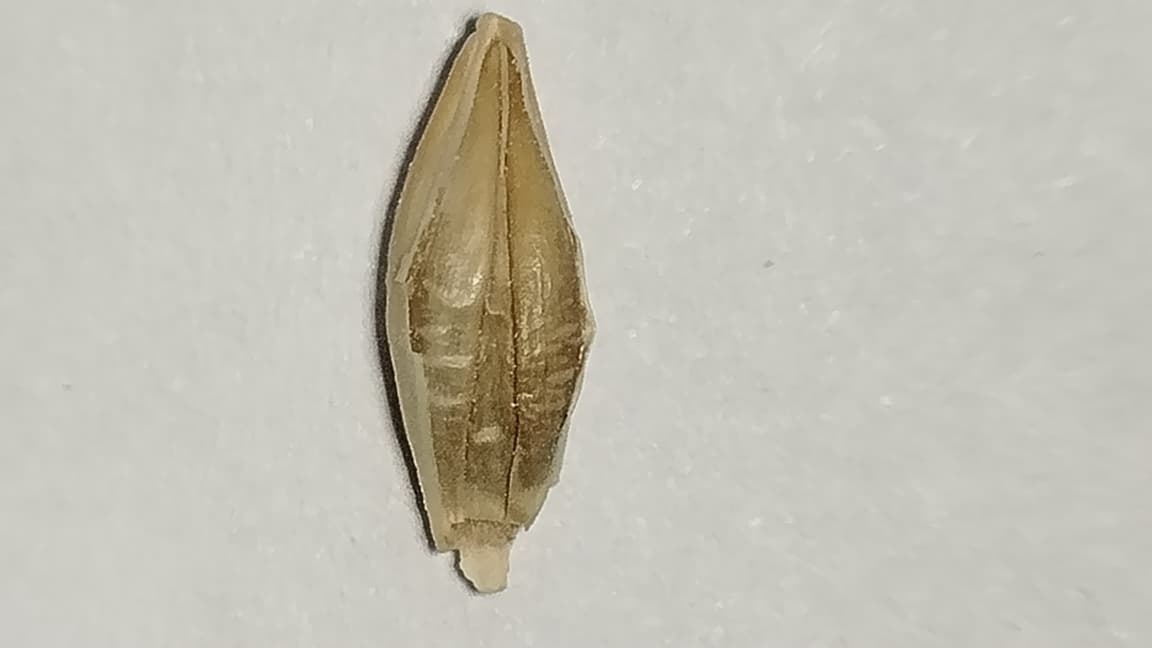healthy-50-40: (381, 17, 590, 589)
shriveledseed: (481, 278, 593, 446)
staindamage: (424, 349, 550, 451)
